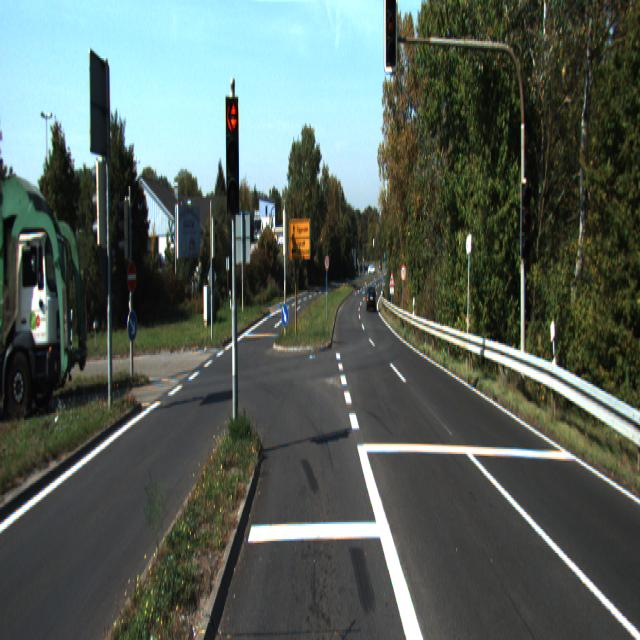Car: (0, 171, 92, 414), (366, 285, 376, 311)
